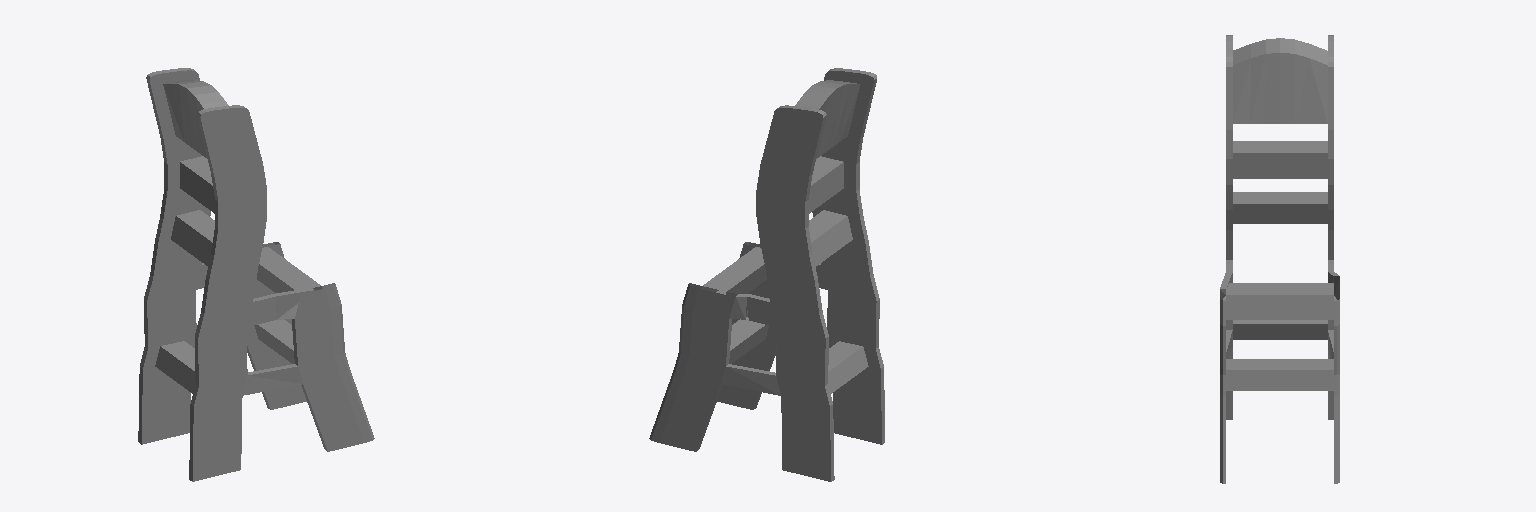
File: sillita.obj
3 renders of one model, left to right at view 1: azimuth 30°, elevation 25°; view 2: azimuth 150°, elevation 25°; view 3: azimuth 270°, elevation 25°, orthographic.
Parts seen in each view (by area): view 1: Silla; view 2: Silla; view 3: Silla.
Boxes of the visible parts, x1=… form: Silla: x1=138, y1=68, x2=374, y2=481; Silla: x1=649, y1=68, x2=884, y2=481; Silla: x1=1220, y1=35, x2=1339, y2=483.
Bounding box in the file's own units: 9 × 17.5 × 5.2.